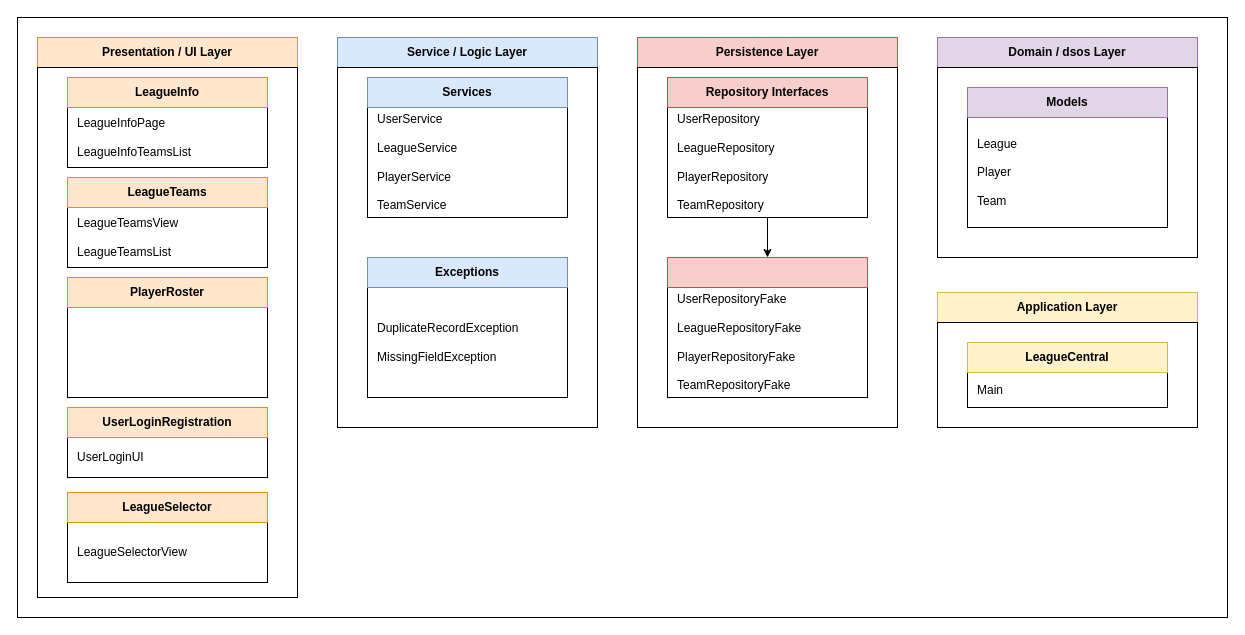
Image size: 1245x635. Some labels were removed from this diagram. Each missing label, with the centre of its shape:
"Fake (in-memory repositories)" goes at [767,272].
"PlayerRosterView PlayerListView PlayerForm" goes at [167,352].
